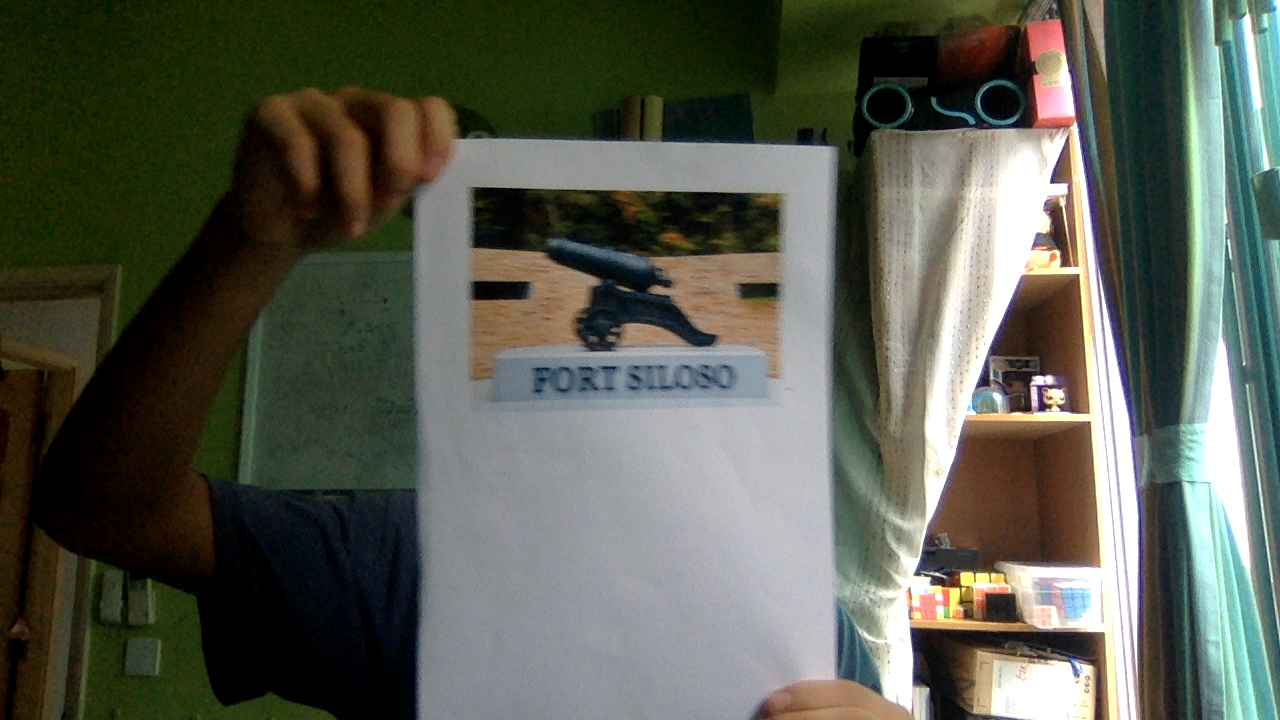siloso: (456, 158, 797, 425)
